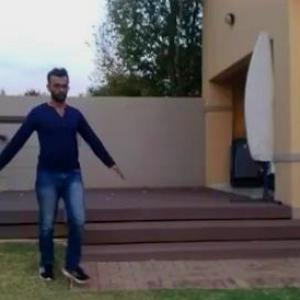land: (0, 68, 133, 289)
